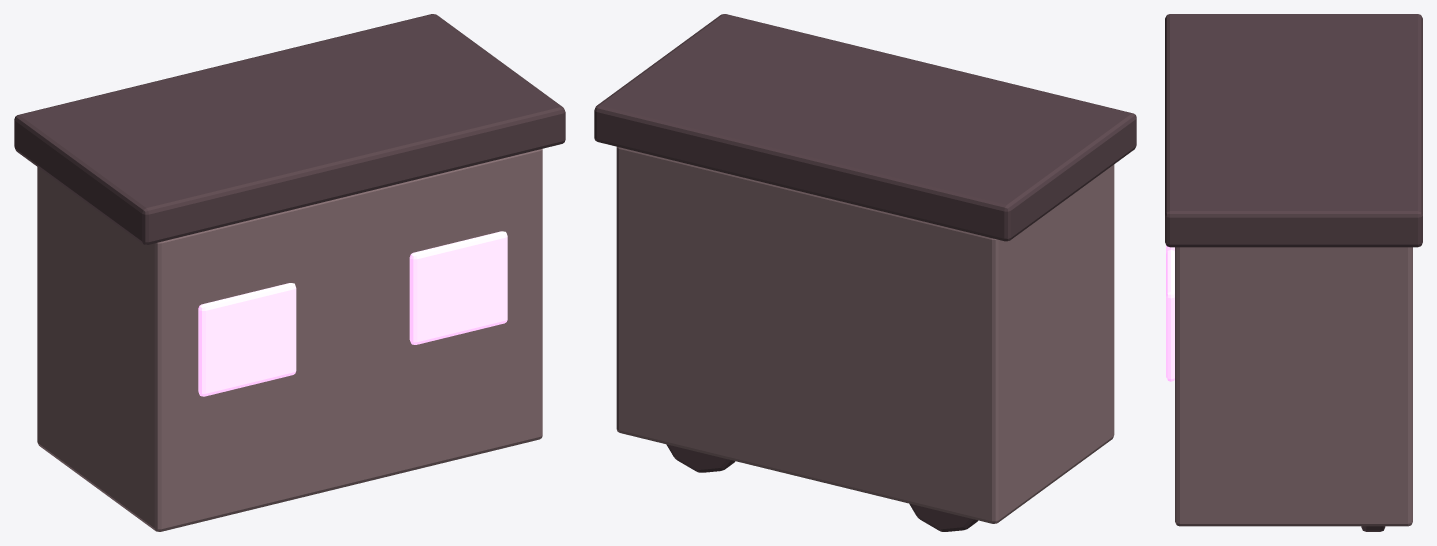
Rendered from SM_Neroberg_Funicular.fbx.
3 renders of one model, left to right at view 1: azimuth 30°, elevation 25°; view 2: azimuth 150°, elevation 25°; view 3: azimuth 270°, elevation 25°, orthographic. The views are drawn at different scales.
Visible parts, largest first — view 1: SM_Neroberg_Funicular; view 2: SM_Neroberg_Funicular; view 3: SM_Neroberg_Funicular.
Part boxes in pixels (<box>): SM_Neroberg_Funicular: <box>14,14,565,531</box>; SM_Neroberg_Funicular: <box>594,14,1136,531</box>; SM_Neroberg_Funicular: <box>1165,14,1422,531</box>.
Size of the model in its own units: 2.4 by 1.99 by 1.3.
